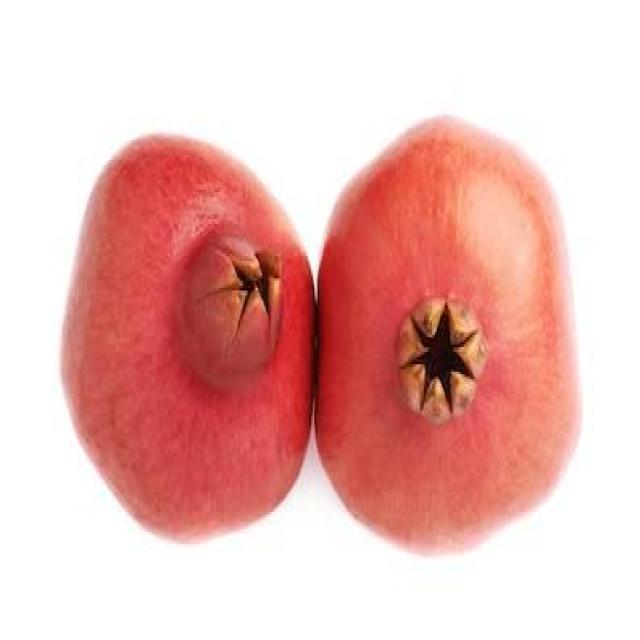Pomegranate: (319, 108, 584, 560), (56, 129, 317, 549)
